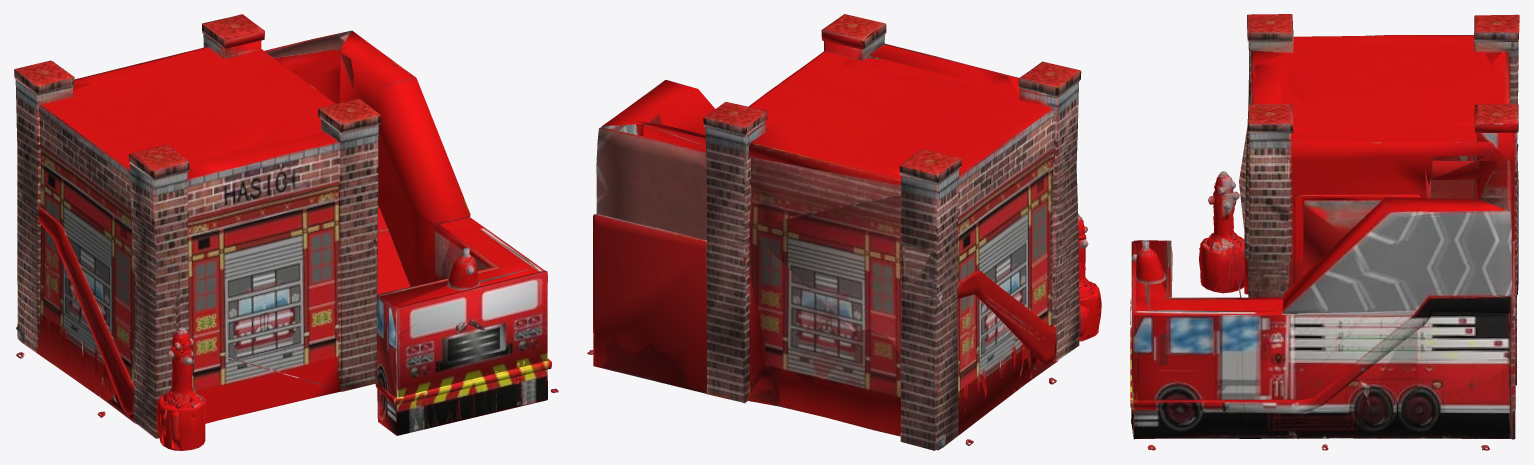
The picture shows the model from 3 angles, left to right: view 1: azimuth 30°, elevation 25°; view 2: azimuth 150°, elevation 25°; view 3: azimuth 270°, elevation 25°; orthographic projection. The views are drawn at different scales.
Bounding box in the file's own units: 1 × 0.7081 × 0.933.
Materials: 1 (1 with a texture image).
